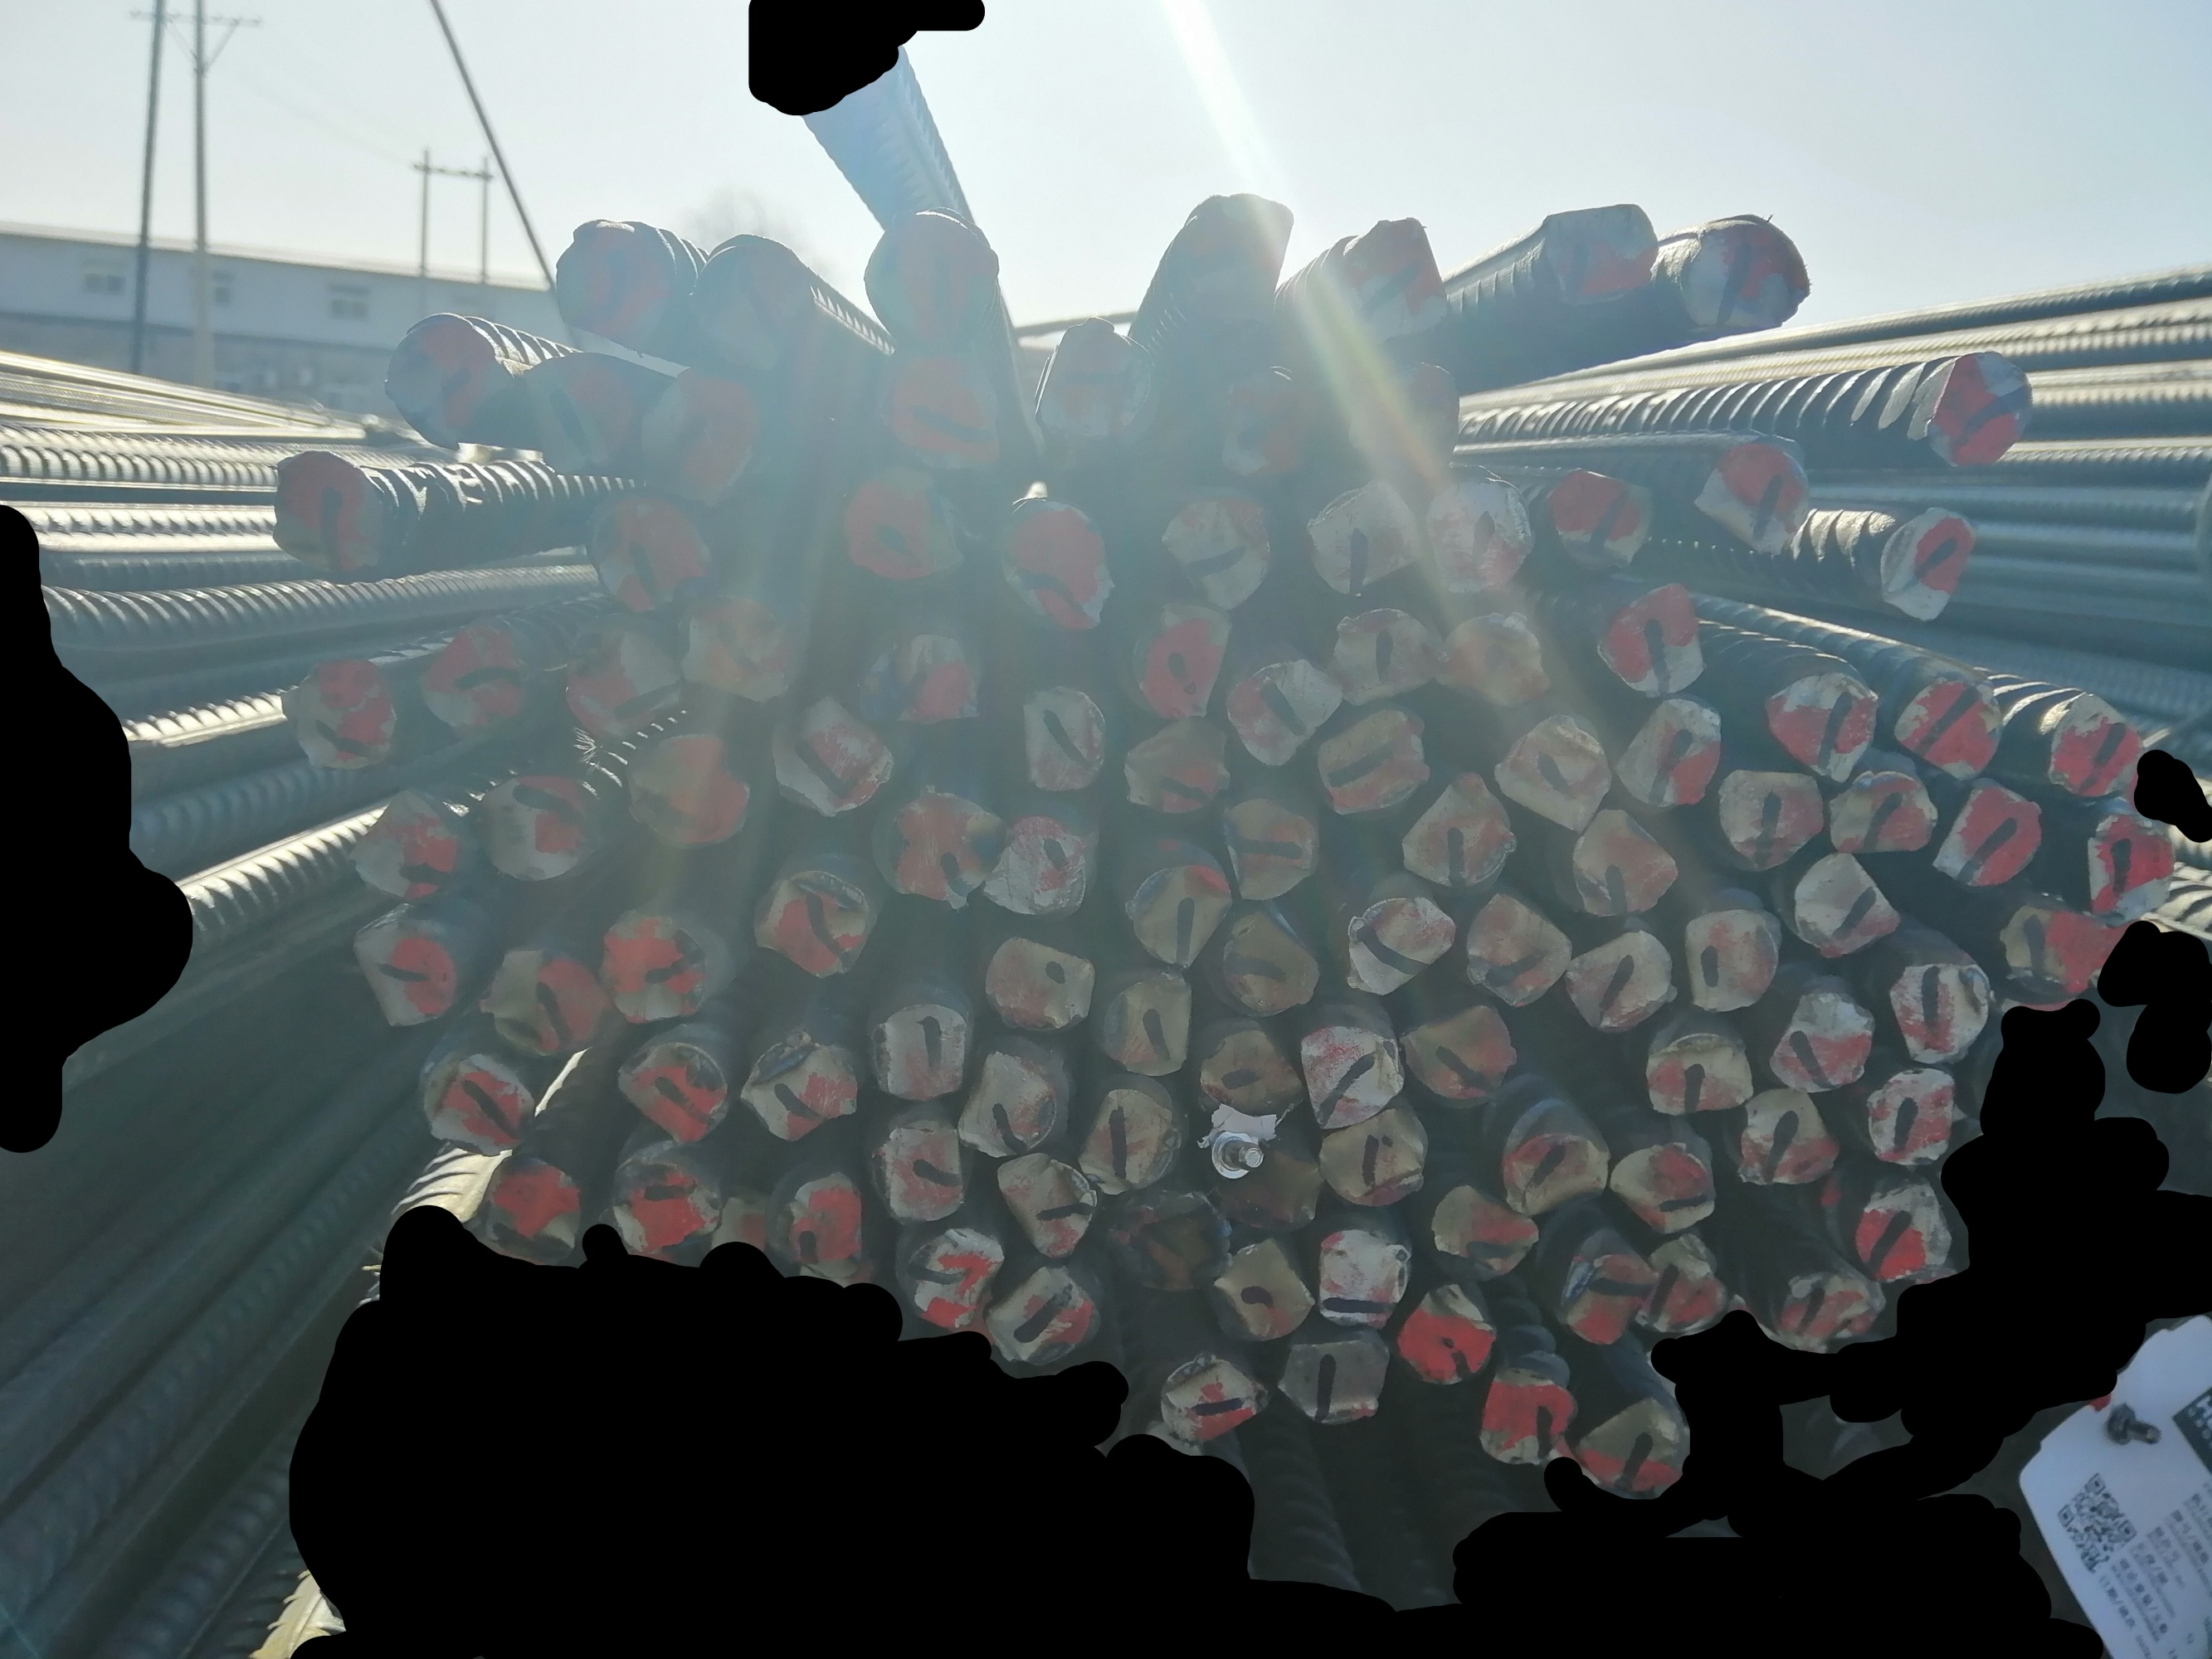rebar: (1156, 179, 1300, 329), (1658, 207, 1815, 342), (865, 206, 1002, 350), (1316, 206, 1454, 349), (502, 342, 648, 474), (413, 605, 547, 748), (577, 477, 713, 617), (638, 361, 762, 512), (547, 207, 683, 345), (1902, 345, 2039, 481), (1147, 474, 1278, 617), (1679, 422, 1816, 554), (1028, 315, 1163, 450), (997, 491, 1121, 636), (872, 779, 1009, 908), (882, 333, 1008, 474), (389, 301, 511, 446), (683, 234, 816, 366), (831, 460, 966, 589), (671, 573, 807, 701), (622, 725, 758, 852), (852, 617, 997, 735), (1344, 354, 1471, 488), (277, 648, 408, 777), (1856, 502, 1989, 629), (765, 688, 894, 817), (267, 450, 396, 577), (549, 619, 682, 742), (349, 777, 471, 904), (476, 772, 605, 890), (1536, 190, 1666, 307), (596, 910, 709, 1044), (1417, 471, 1537, 596), (1215, 653, 1342, 772), (1497, 711, 1619, 833), (1593, 579, 1712, 704), (739, 1023, 861, 1143), (1309, 701, 1429, 823), (478, 941, 601, 1060), (1766, 660, 1883, 786), (1616, 688, 1724, 823), (1541, 458, 1656, 584), (1398, 770, 1523, 885), (1309, 481, 1424, 605), (748, 864, 873, 978), (1393, 1000, 1518, 1112), (1213, 362, 1323, 490), (1201, 1126, 1321, 1241), (1881, 951, 2003, 1065), (1126, 592, 1236, 718), (973, 932, 1100, 1040), (751, 1166, 872, 1279), (342, 910, 453, 1032), (974, 810, 1096, 922), (1890, 669, 2013, 779), (1462, 890, 1578, 1007), (615, 1028, 727, 1148), (1558, 807, 1682, 915), (2076, 796, 2182, 922), (471, 1152, 584, 1269), (1103, 1195, 1236, 1295), (1330, 599, 1443, 714), (1781, 849, 1898, 960), (868, 990, 976, 1110), (1072, 1080, 1180, 1199), (990, 1258, 1096, 1378), (1938, 782, 2052, 894), (1340, 894, 1457, 1002), (1729, 1084, 1846, 1192), (1766, 988, 1883, 1096), (605, 1150, 723, 1256), (1311, 1108, 1435, 1209), (418, 1053, 544, 1152), (1208, 906, 1321, 1016), (1001, 680, 1109, 795), (1713, 760, 1822, 875), (1677, 904, 1785, 1019), (1562, 924, 1677, 1032), (1846, 1175, 1954, 1288), (1572, 1396, 1687, 1502), (994, 1148, 1100, 1262), (1551, 1243, 1659, 1352), (894, 1222, 1001, 1333), (1300, 1019, 1405, 1133), (1637, 1023, 1762, 1117), (1126, 856, 1227, 972), (1089, 971, 1198, 1079), (868, 1114, 971, 1227), (1435, 608, 1550, 709), (1766, 1260, 1884, 1358), (952, 1053, 1060, 1157), (1429, 1176, 1539, 1279), (1123, 714, 1234, 816), (1820, 770, 1938, 864), (1204, 1239, 1313, 1342), (1630, 1227, 1729, 1338), (1157, 1349, 1271, 1446), (1867, 1065, 1964, 1178), (1307, 1225, 1410, 1331), (1396, 1283, 1503, 1385), (1616, 1133, 1722, 1236), (1475, 1370, 1584, 1469), (2048, 688, 2146, 800), (1199, 1021, 1306, 1122), (1499, 1121, 1612, 1215), (1220, 798, 1318, 906), (1278, 1333, 1391, 1425), (1992, 890, 2088, 995)
